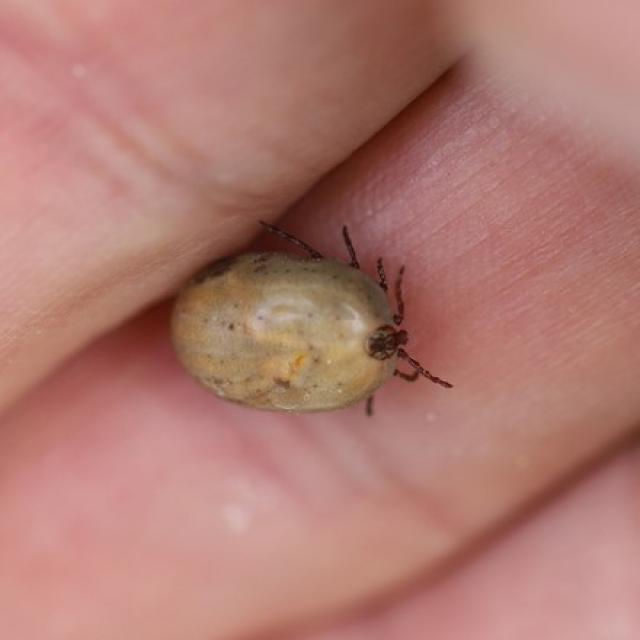Dermacentor Reticulatus-F-Fed: (170, 218, 454, 417)
